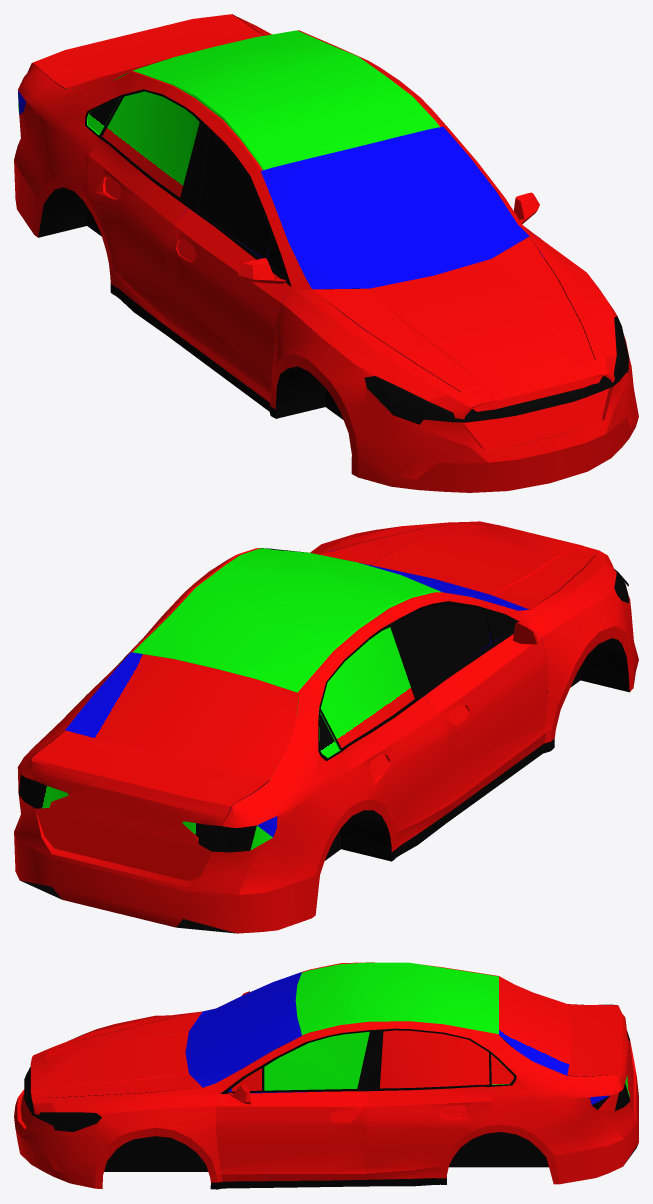
File: sedan-awd-lod1.glb
3 views of the same model, one above another, from view 1: azimuth 30°, elevation 25°; view 2: azimuth 150°, elevation 25°; view 3: azimuth 270°, elevation 25° (orthographic). The views are drawn at different scales.
Parts seen in each view (by area): view 1: body; view 2: body; view 3: body.
Part boxes in pixels (x1,y1,x2,y2): body: [14, 14, 638, 492]; body: [14, 521, 638, 933]; body: [14, 962, 638, 1189].
Bounding box in the file's own units: 2.06 × 1.39 × 5.17.
3 materials, 3 textured.
